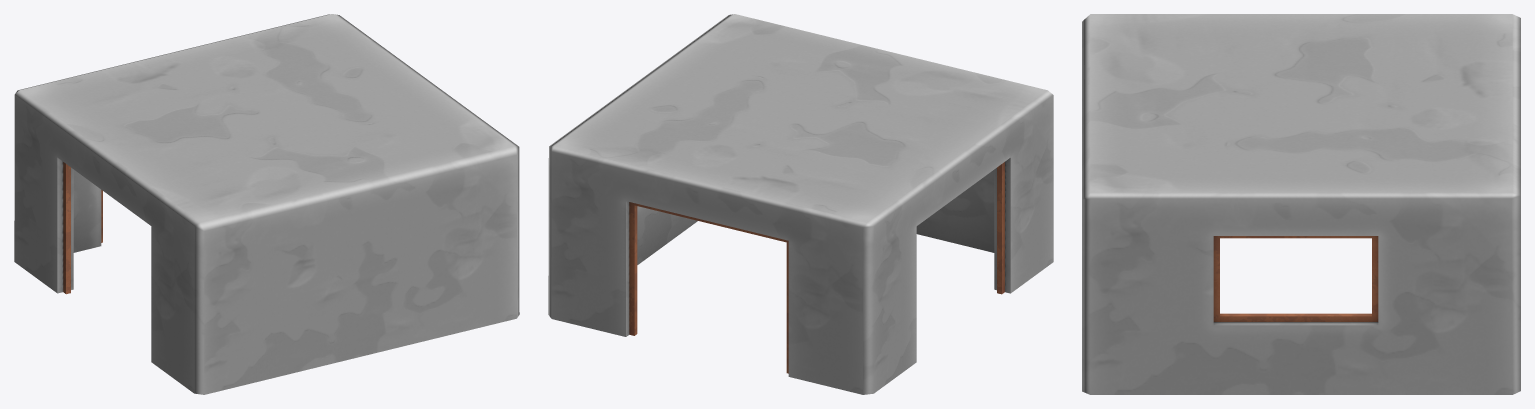
The model's file is stone_build_1.fbx.
The picture shows the model from 3 angles, left to right: view 1: azimuth 30°, elevation 25°; view 2: azimuth 150°, elevation 25°; view 3: azimuth 270°, elevation 25°; orthographic projection. The views are drawn at different scales.
Visible parts, largest first — view 1: stone_build_1; view 2: stone_build_1; view 3: stone_build_1.
Part boxes in pixels (<box>): stone_build_1: <box>14,14,519,394</box>; stone_build_1: <box>548,14,1053,394</box>; stone_build_1: <box>1082,14,1520,394</box>.
Size of the model in its own units: 400 by 200 by 400.
